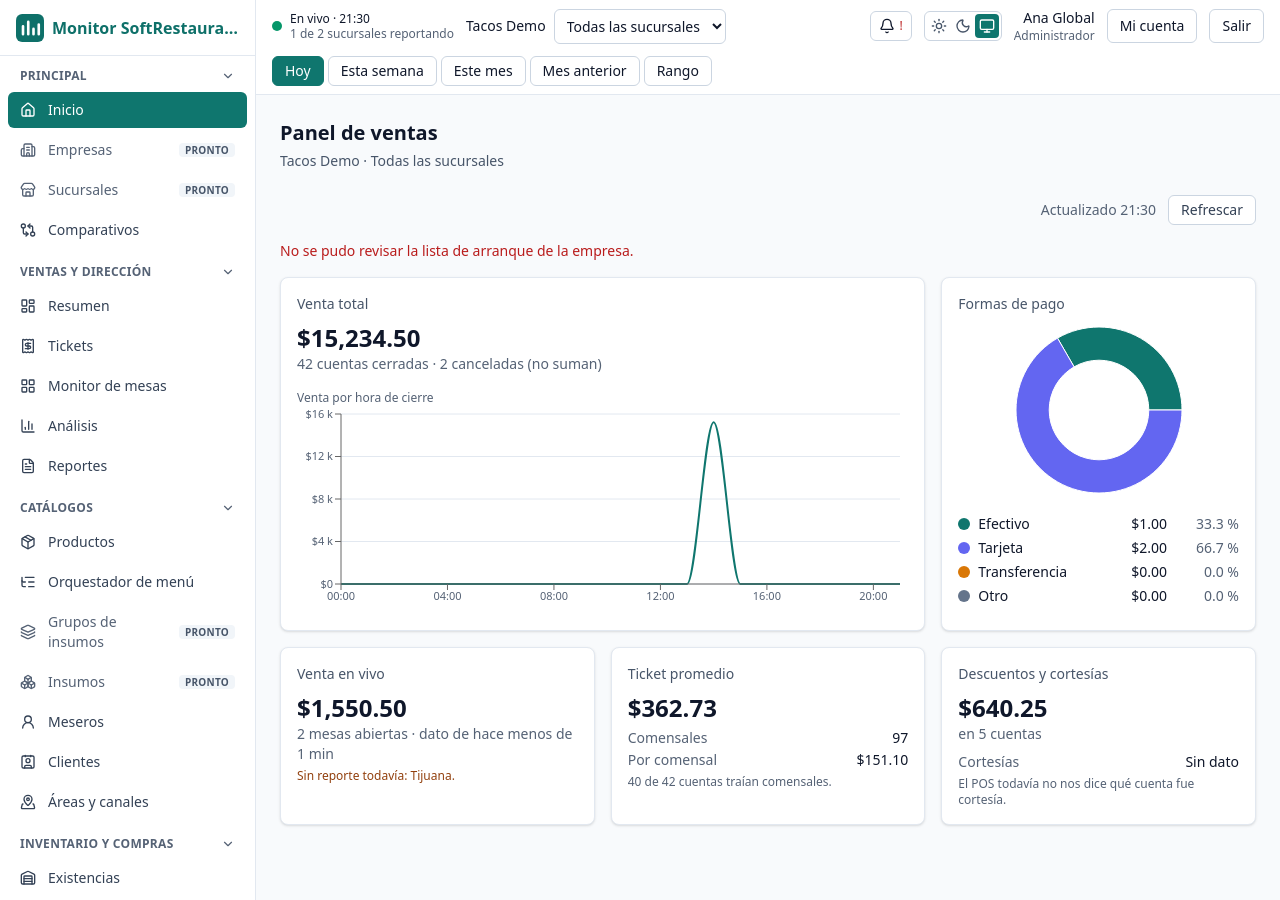
Test: cambiar sucursal o periodo actualiza todo sin recargar › cambiar de sucursal pide con sucursalId y pinta los números nuevos
Expected: the text with test id "venta-total" reads "$15,234.50", [297, 321, 420, 354]
Select "Centro" in the dropdown named "Sucursal" at (640, 26), box [554, 8, 726, 44]
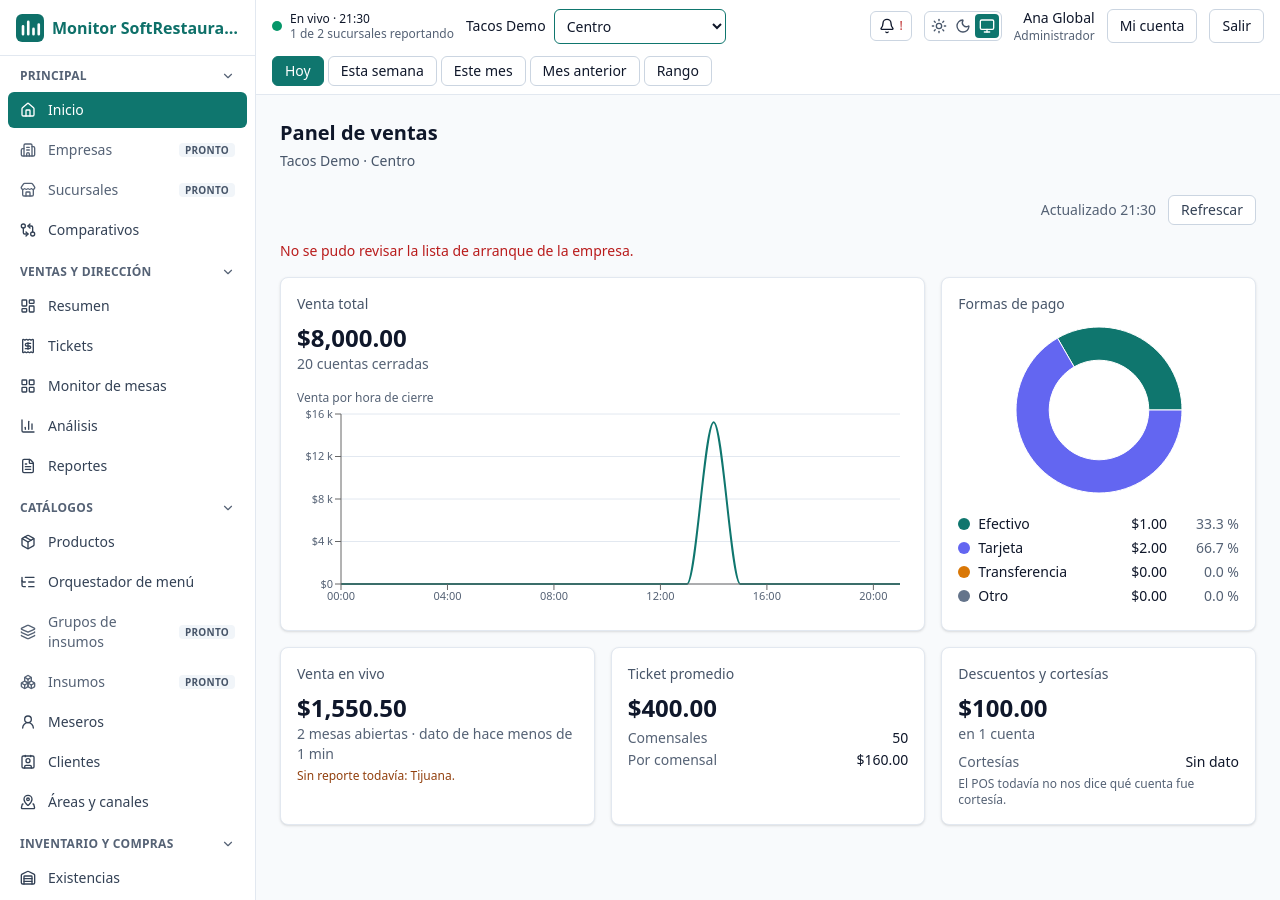
Expected: the text with test id "venta-total" reads "$8,000.00", [297, 321, 407, 354]
Expected: the text with test id "ticket-promedio" reads "$400.00", [628, 691, 717, 724]
Expected: the text with test id "descuentos" reads "$100.00", [958, 691, 1048, 724]
